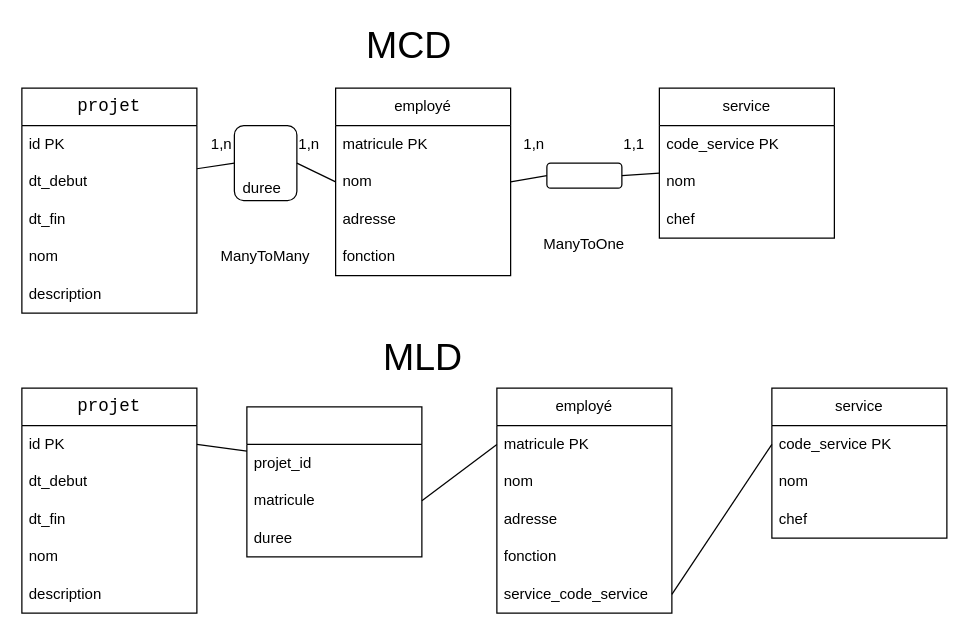
This 969x635 diagram has some shape labels left out. Here are the shapes that lost their labels. From the top down, the box of each, then its label:
(233, 124, 297, 201): travailler
(546, 162, 622, 188): appartenir
(246, 406, 422, 557): projet_employe
